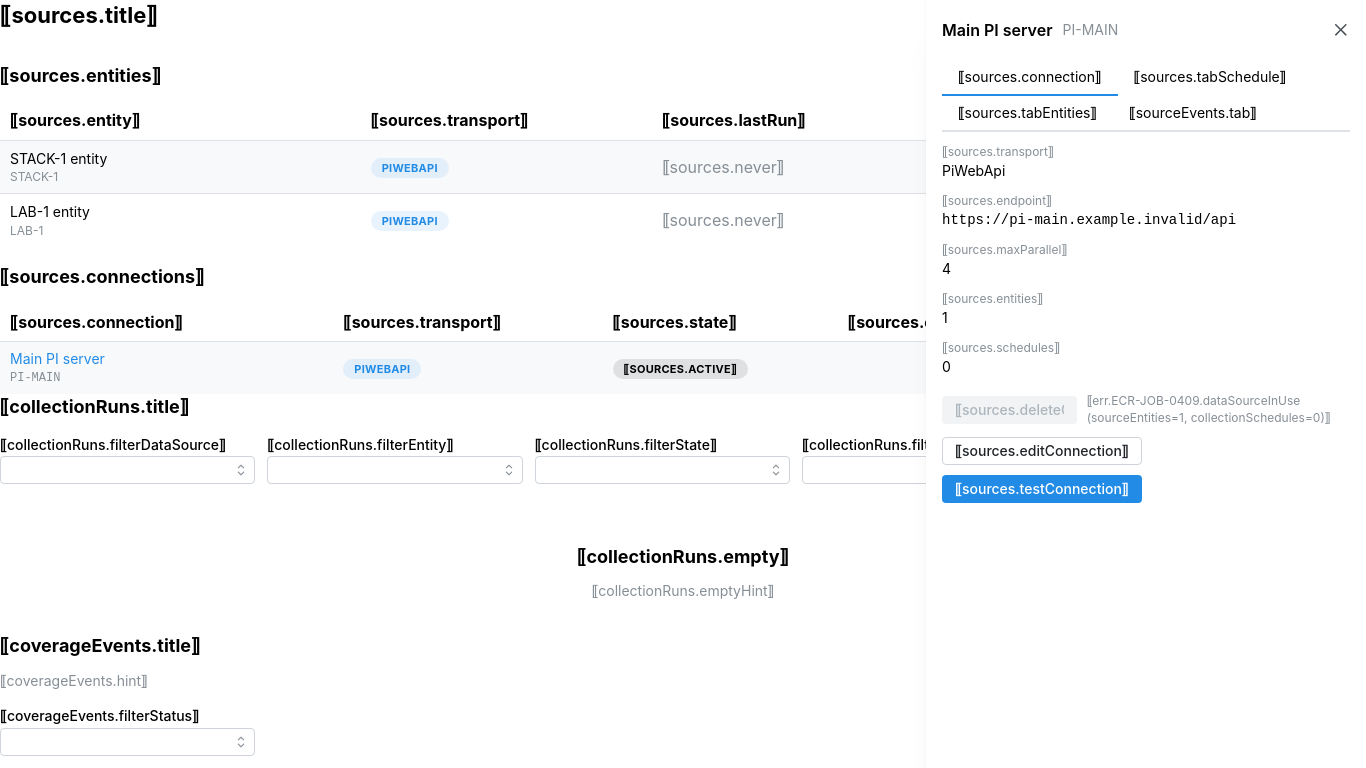
Шухляда з'єднання: вкладка Entities › ФВ-13.11: дубль коду — відмова 409 видна у формі, форма лишається відкритою
Step 1. Click the tab "⟦sources.tabEntities⟧" → [1028, 114], box [942,96,1113,132]
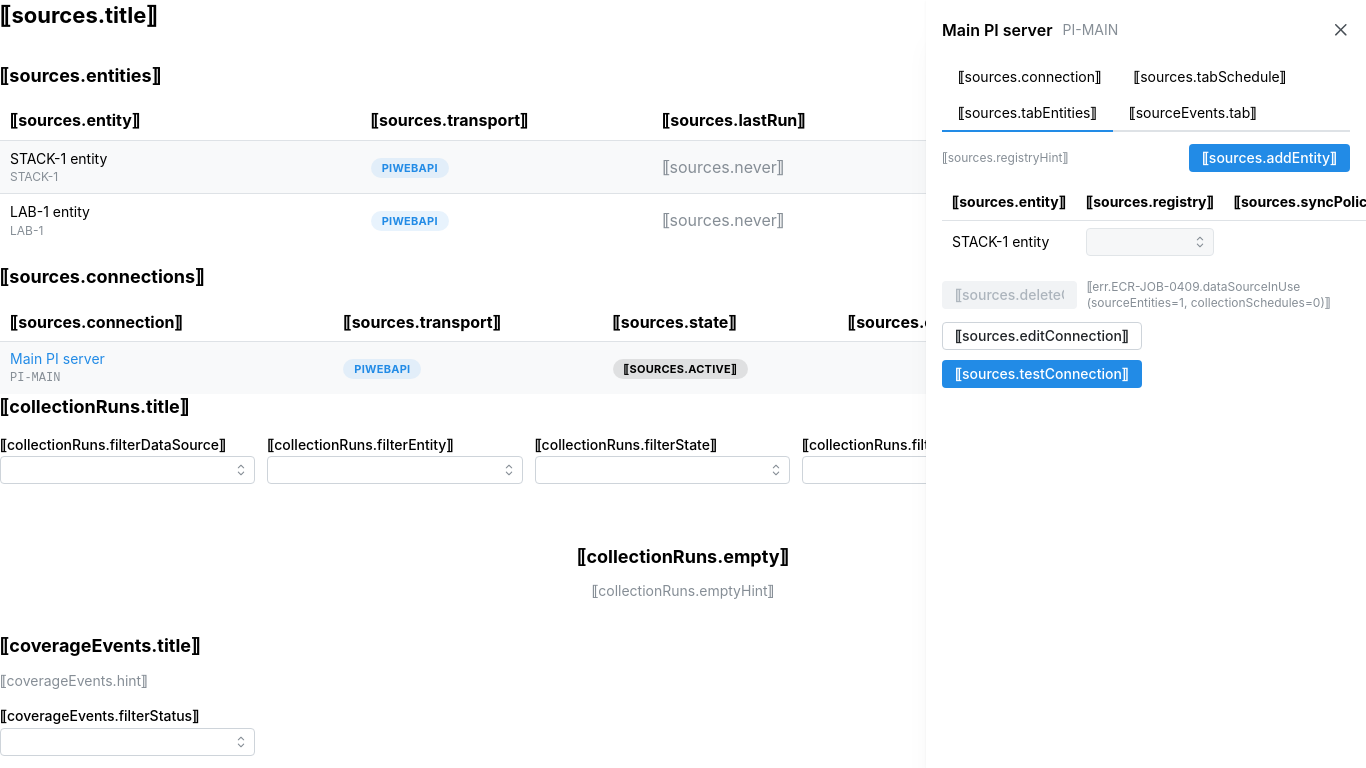
Step 2. Click the button "⟦sources.addEntity⟧" → [1269, 158], box [1189,144,1350,172]
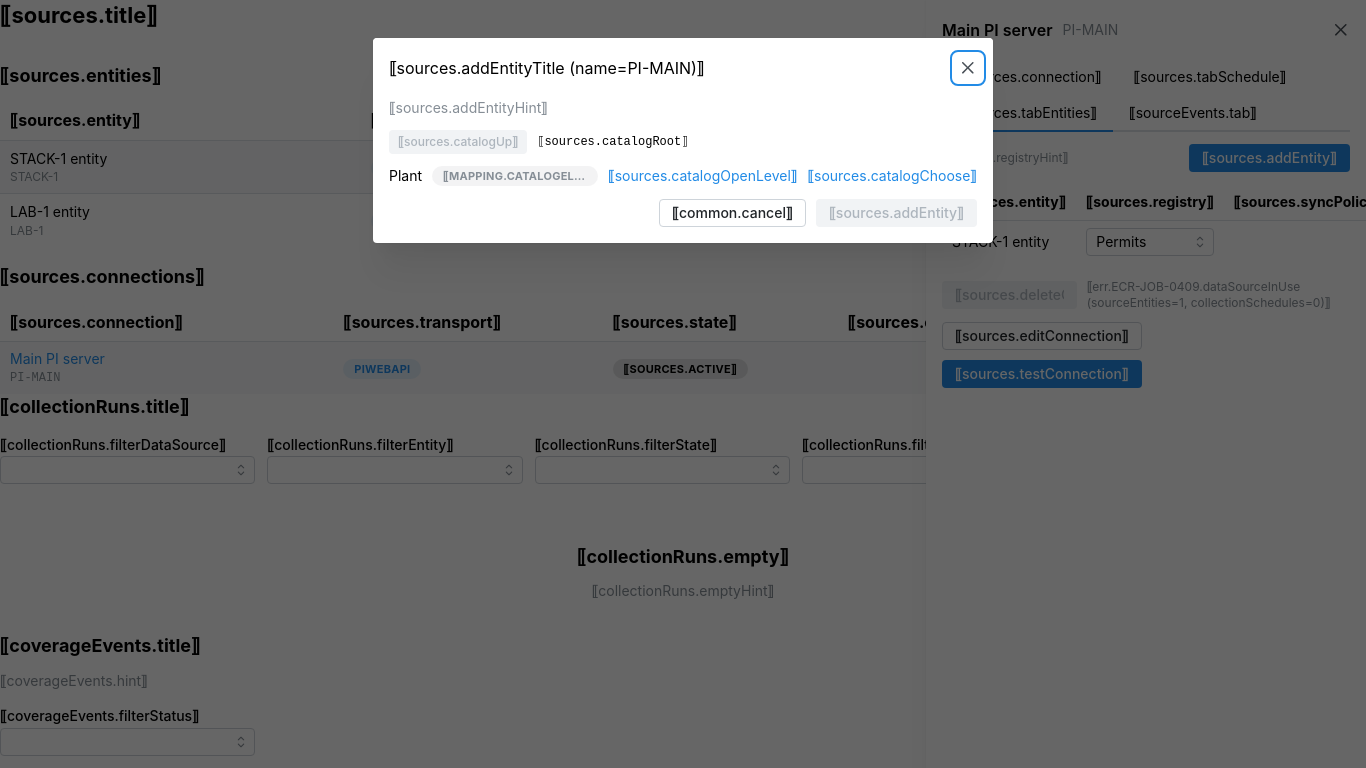
Expected: the element that starts with "Plant" is shown, [389,167,977,187]
Step 3. Click the button "⟦sources.catalogChoose⟧" → [892, 177], box [808,167,977,187]
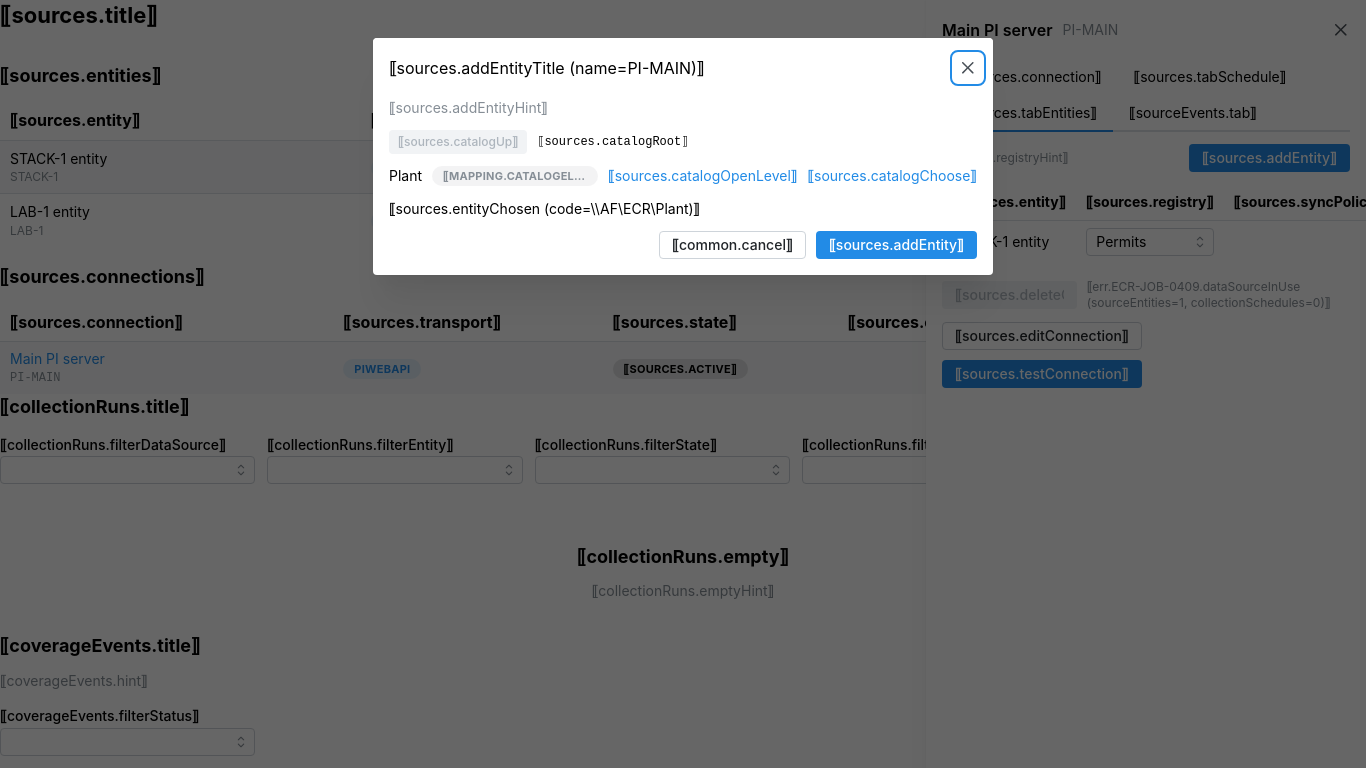
Step 4. Click the button "⟦sources.addEntity⟧" → [896, 245], box [816,231,977,259]
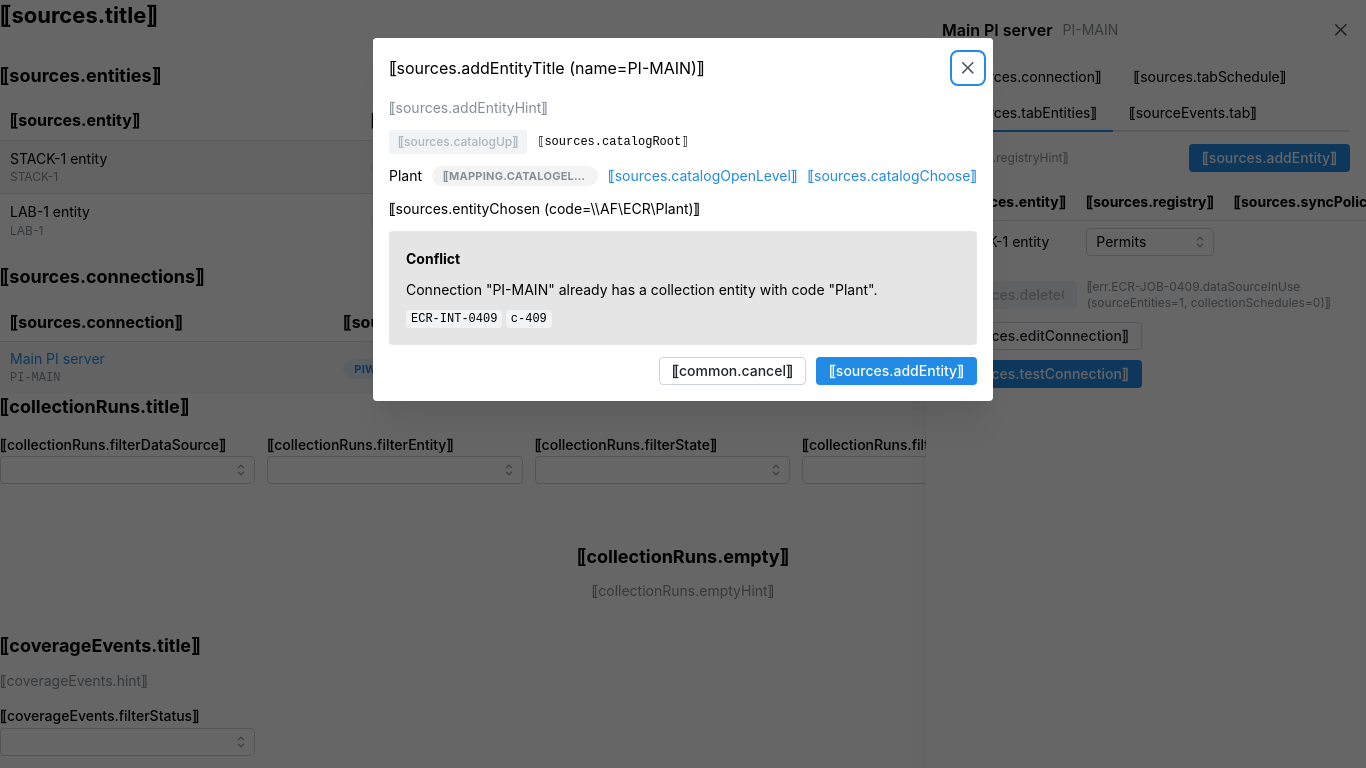
Expected: the dialog "sources.addEntityTitle" is shown, [373,38,993,402]
Expected: the message is shown, [389,231,977,346]
